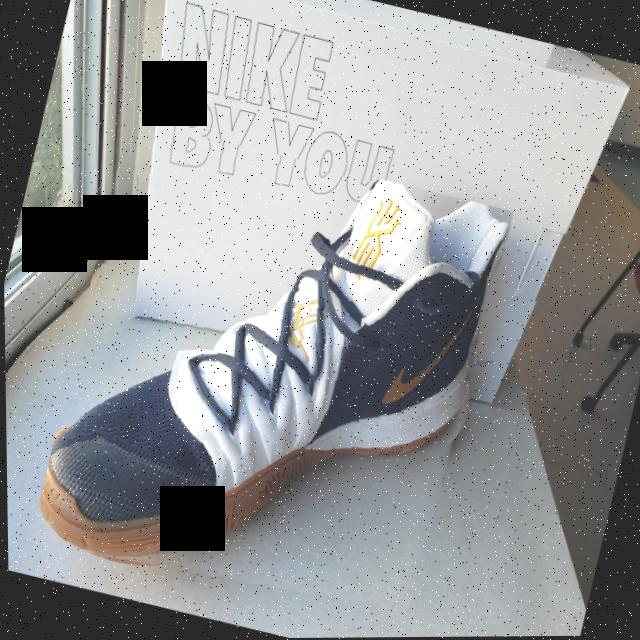shoe: (22, 116, 518, 638)
